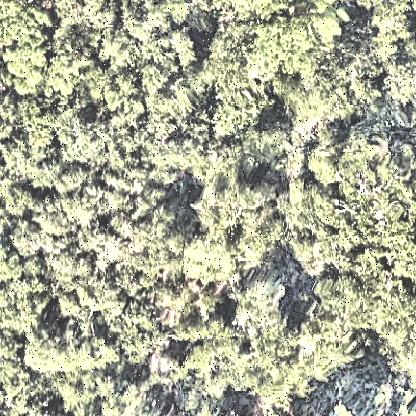tree-top: (103, 4, 197, 91), (3, 1, 84, 100), (192, 191, 276, 281), (240, 11, 334, 77), (20, 327, 116, 380), (235, 280, 295, 350), (53, 109, 112, 169), (243, 102, 289, 170), (307, 141, 353, 193), (372, 1, 408, 60), (386, 60, 416, 106), (12, 220, 46, 256)
